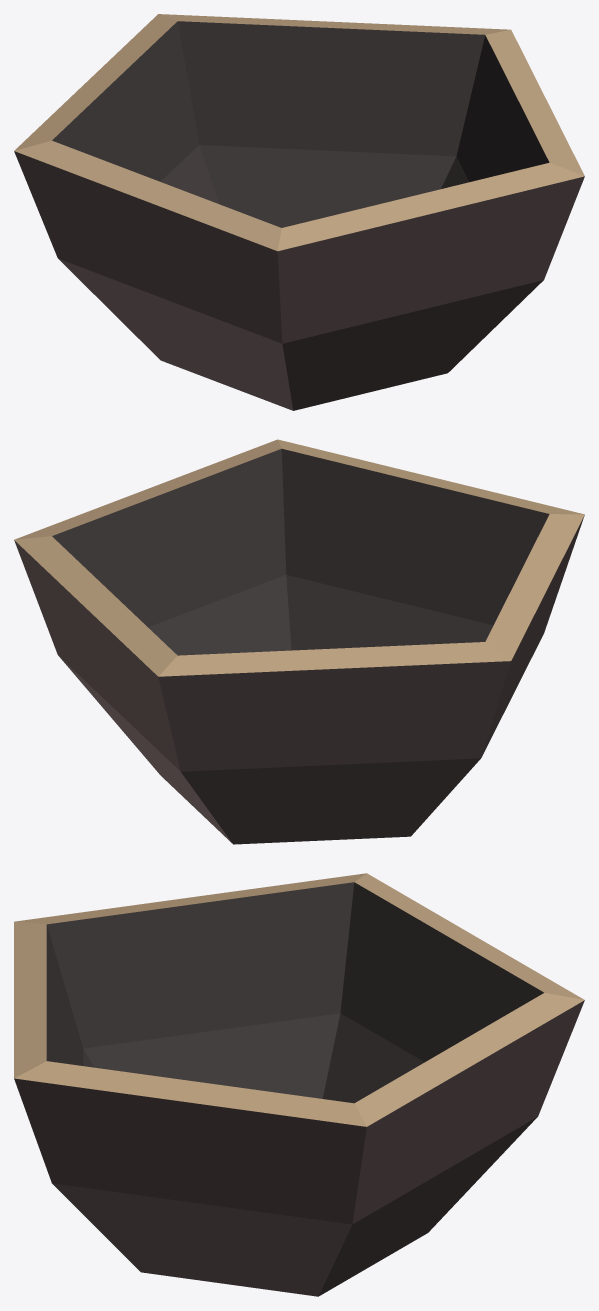
File: TB_Prop_Basket_C.FBX
The picture shows the model from 3 angles, top to bottom: view 1: azimuth 30°, elevation 25°; view 2: azimuth 150°, elevation 25°; view 3: azimuth 270°, elevation 25°; orthographic projection. The views are drawn at different scales.
Visible parts, largest first — view 1: TB_Prop_Basket_C; view 2: TB_Prop_Basket_C; view 3: TB_Prop_Basket_C.
Boxes of the visible parts, x1,y1,x2,y2 form: TB_Prop_Basket_C: (14,14,584,410); TB_Prop_Basket_C: (14,439,584,844); TB_Prop_Basket_C: (14,873,584,1296).
Size of the model in its own units: 1.06 by 0.467 by 1.01.
